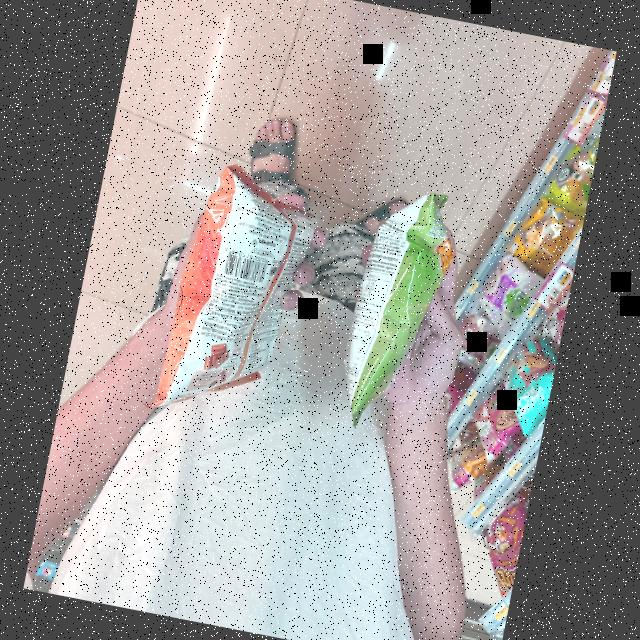snack_bag: (134, 146, 346, 438), (324, 176, 454, 444)
